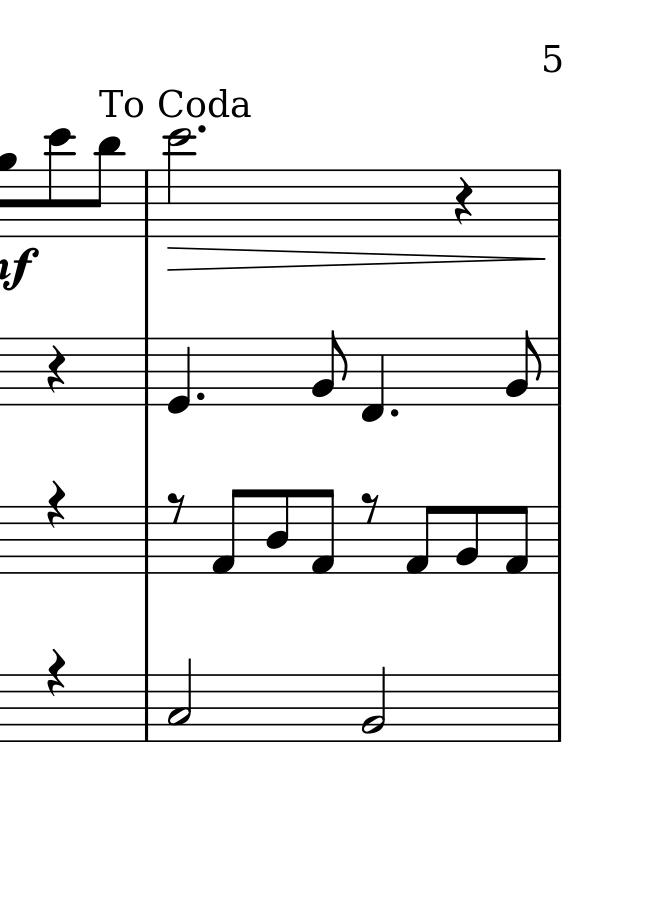2_12: (163, 127, 196, 239)
2_2: (361, 665, 388, 746)
2_3: (167, 658, 194, 744)
4_-1: (360, 334, 386, 424)
4_0: (167, 333, 194, 416)
8_1: (211, 488, 245, 577), (404, 504, 436, 577), (310, 487, 335, 576), (505, 504, 531, 578)
8_11: (84, 136, 123, 238)
8_12: (43, 127, 78, 238)
8_2: (311, 328, 348, 408), (506, 329, 542, 408), (455, 504, 481, 576)
8_4: (265, 486, 290, 574)
Diminuendo_hairpin: (166, 246, 547, 270)
Rests4: (452, 175, 476, 230), (43, 344, 68, 396), (46, 648, 66, 694), (47, 481, 66, 526)
Rests8: (360, 491, 386, 525), (164, 493, 190, 525)
Single_barline: (137, 506, 156, 574), (549, 674, 567, 743), (549, 505, 566, 575), (549, 339, 567, 405), (138, 674, 155, 743), (138, 338, 155, 405), (139, 170, 155, 237), (550, 170, 566, 235)
dot: (192, 387, 208, 404), (194, 123, 208, 137), (388, 406, 399, 418)
